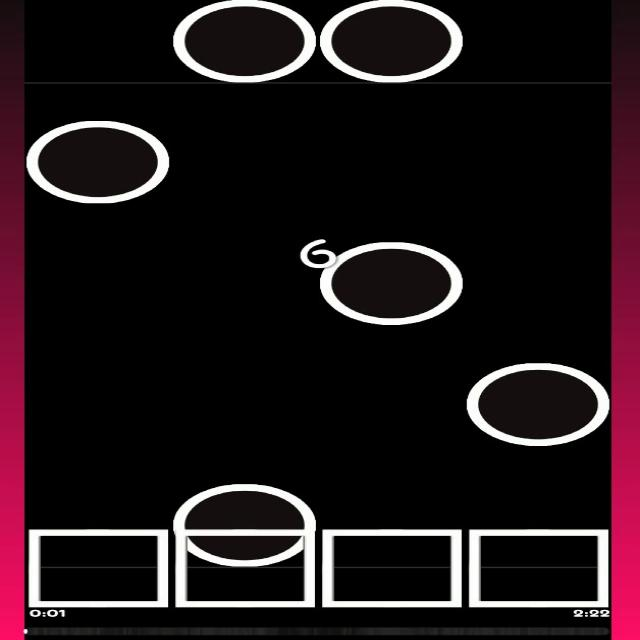note: (316, 238, 469, 329), (461, 357, 612, 449), (170, 483, 324, 572), (20, 119, 171, 208), (171, 0, 316, 86), (318, 1, 464, 86)
